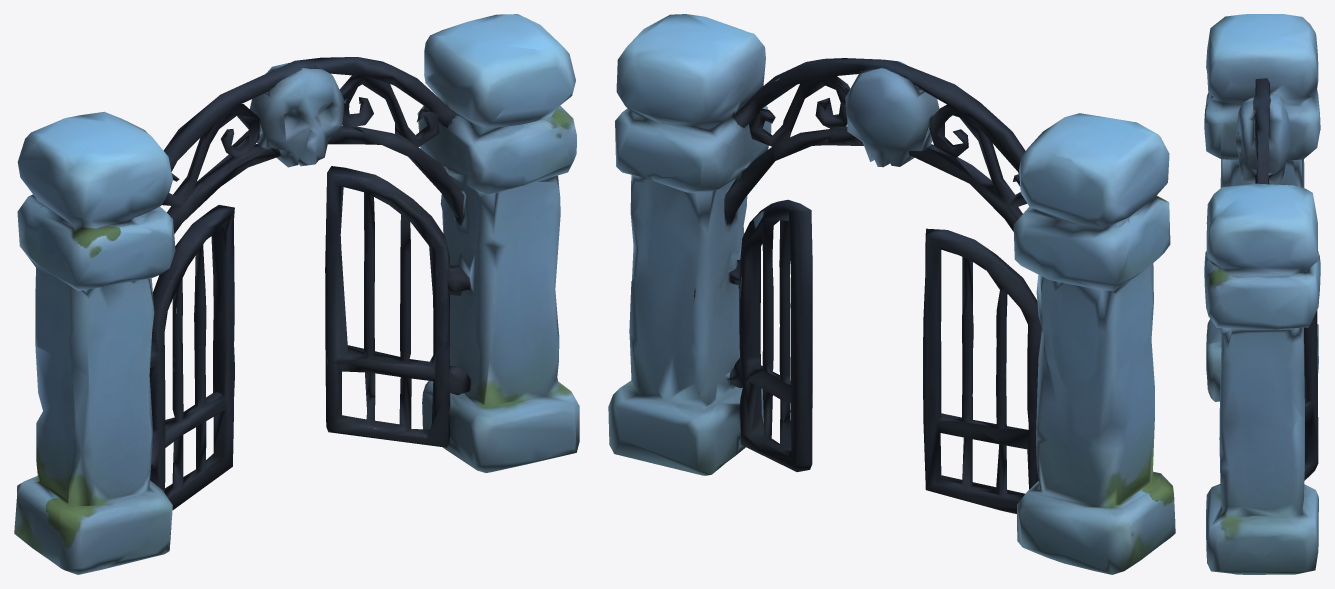
The model's file is gy_gate-DHimlP-U.glb.
The picture shows the model from 3 angles, left to right: view 1: azimuth 30°, elevation 25°; view 2: azimuth 150°, elevation 25°; view 3: azimuth 270°, elevation 25°; orthographic projection. The views are drawn at different scales.
Visible parts, largest first — view 1: tripo_node_c9c8855a-fa48-451d-965f-9a1e404809fb; view 2: tripo_node_c9c8855a-fa48-451d-965f-9a1e404809fb; view 3: tripo_node_c9c8855a-fa48-451d-965f-9a1e404809fb.
Part boxes in pixels (x1,y1,x2,y2): tripo_node_c9c8855a-fa48-451d-965f-9a1e404809fb: [14, 14, 579, 574]; tripo_node_c9c8855a-fa48-451d-965f-9a1e404809fb: [608, 14, 1175, 574]; tripo_node_c9c8855a-fa48-451d-965f-9a1e404809fb: [1204, 14, 1320, 574].
Size of the model in its own units: 1 by 0.7918 by 0.2241.
1 material, 1 textured.
